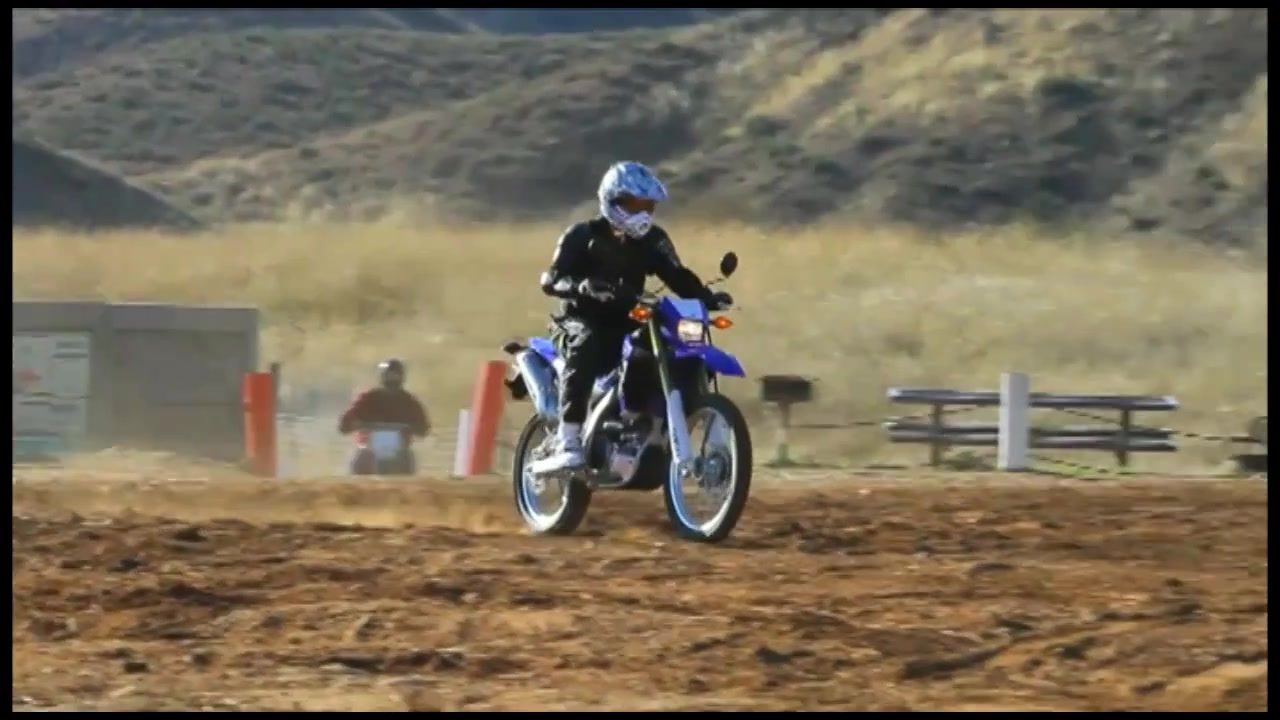motorbike: (503, 251, 756, 545)
